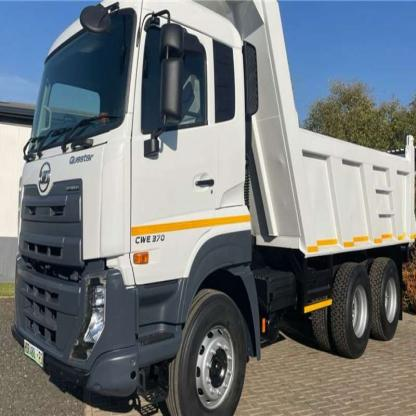dump_truck: (9, 5, 415, 413)
